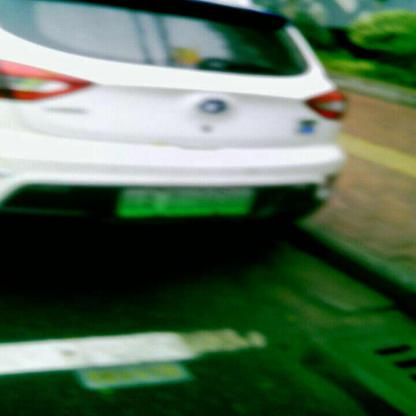lp: (118, 188, 255, 215)
